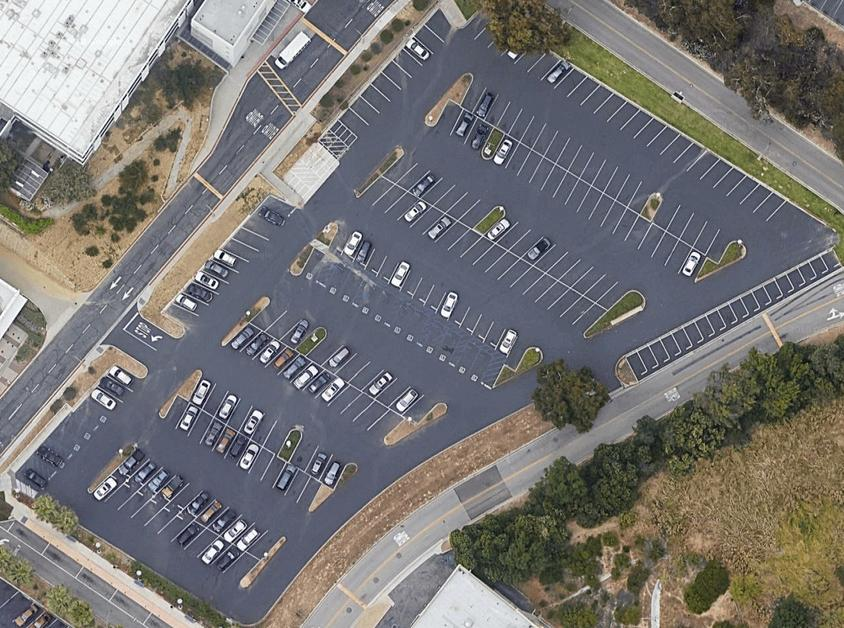parkingspot: (460, 7, 788, 223), (357, 174, 609, 335), (489, 132, 709, 285), (623, 245, 844, 383), (327, 224, 531, 373), (459, 76, 656, 217), (299, 247, 495, 386), (224, 321, 407, 441), (88, 472, 262, 584), (159, 193, 301, 330), (116, 447, 283, 562), (163, 393, 323, 512), (5, 518, 176, 628), (337, 6, 457, 139), (481, 212, 634, 312), (303, 333, 440, 426), (380, 152, 499, 231), (47, 363, 144, 458), (187, 373, 293, 457), (649, 193, 735, 265), (0, 577, 75, 628), (247, 300, 321, 351), (433, 97, 496, 154), (287, 435, 349, 491), (32, 442, 69, 473), (16, 461, 53, 492)
